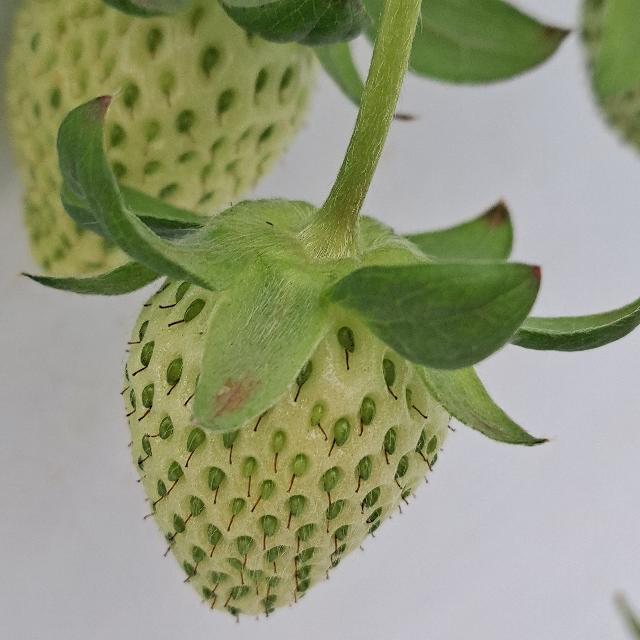Health_25: (123, 276, 449, 616)
